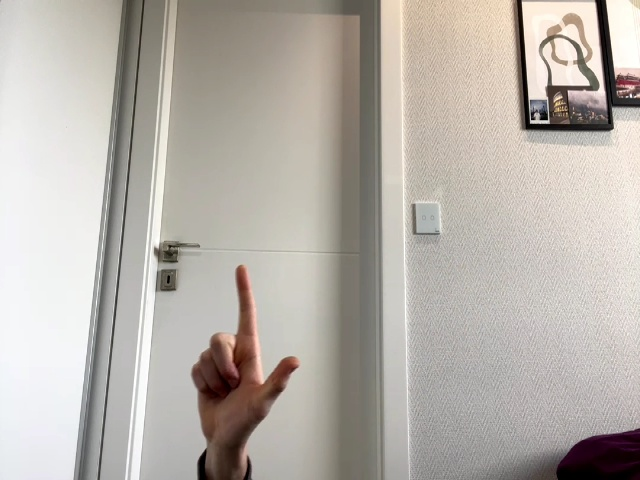L: (190, 265, 300, 459)
